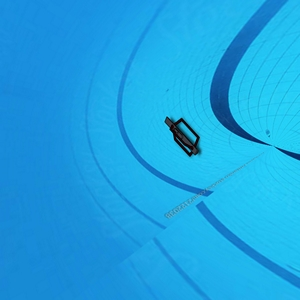submarine: (168, 118, 202, 155)
